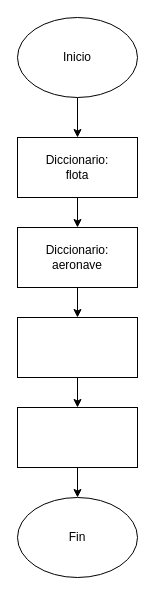
Image size: 155x595. Some labels were removed from this diagram. Each missing label, with the centre of its shape:
"Diccionario: componentes" goes at point 77,347.
"Lista: Componentes" goes at point 77,437.
